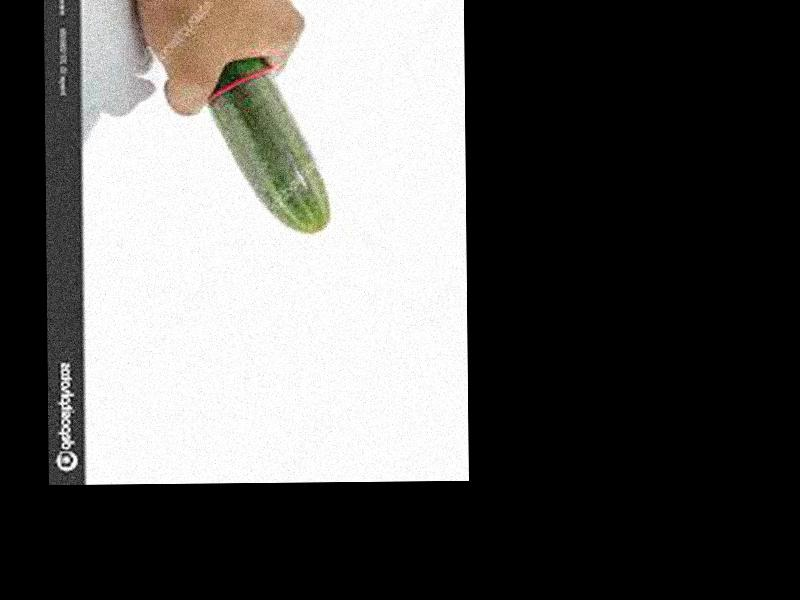Cucumber: (208, 56, 330, 234)
